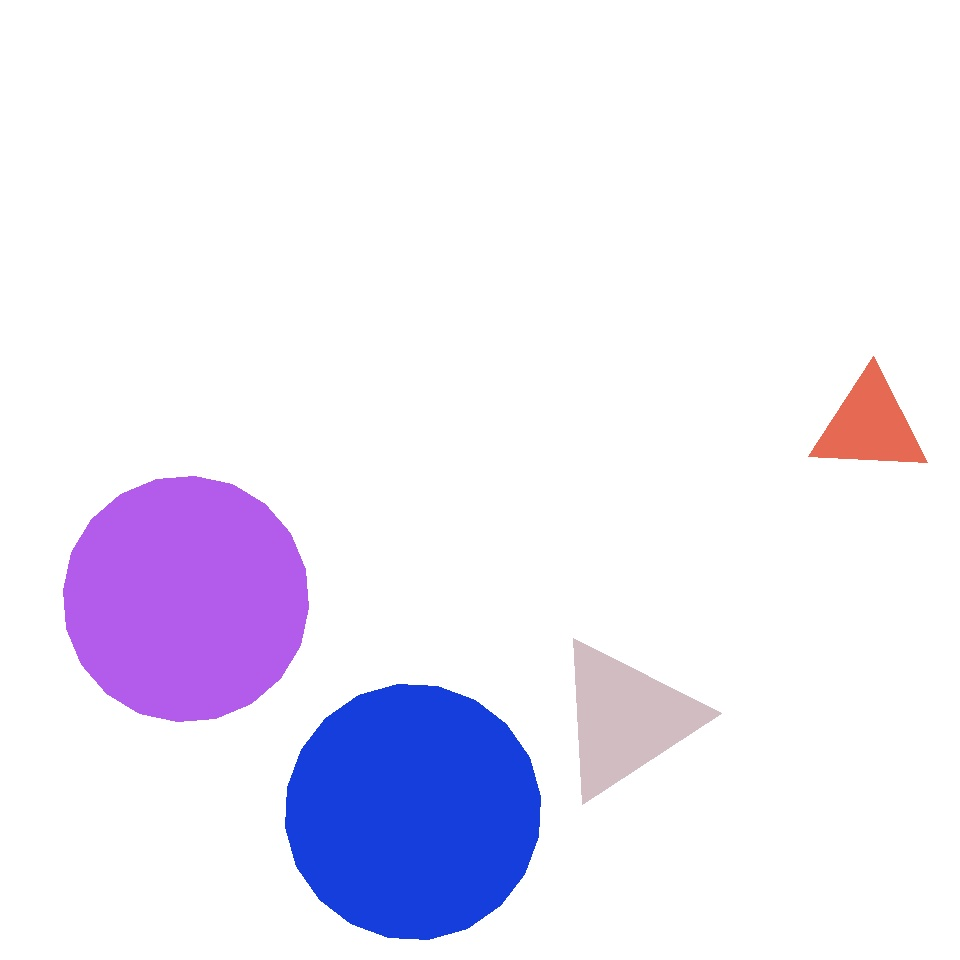circle: (446, 146, 698, 366), (194, 630, 431, 844), (552, 636, 700, 802), (810, 372, 930, 478)
square: (64, 344, 252, 534), (702, 762, 862, 920)
triangle: (379, 602, 728, 952), (152, 444, 454, 745), (286, 684, 540, 940), (64, 476, 308, 721)
